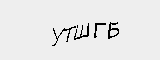Б: (107, 19, 121, 39)
Г: (93, 19, 104, 41)
Т: (62, 25, 76, 41)
У: (50, 24, 65, 46)
Ш: (73, 22, 89, 40)
